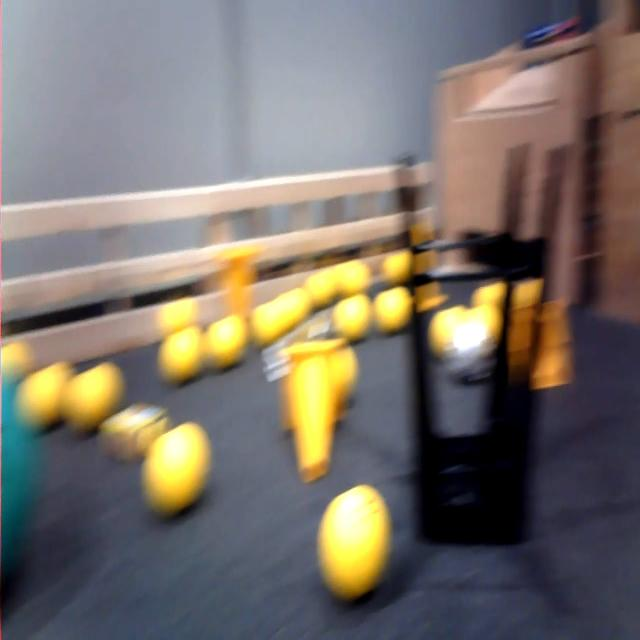fuel: (314, 476, 397, 604), (144, 414, 216, 514), (63, 353, 123, 437), (14, 364, 76, 426), (159, 318, 205, 380), (204, 312, 251, 370), (331, 290, 374, 347), (249, 294, 289, 351), (430, 300, 468, 357), (372, 290, 414, 338), (377, 240, 417, 290), (466, 298, 504, 350), (280, 282, 314, 329), (334, 256, 372, 298), (304, 267, 340, 309), (470, 277, 509, 311)
